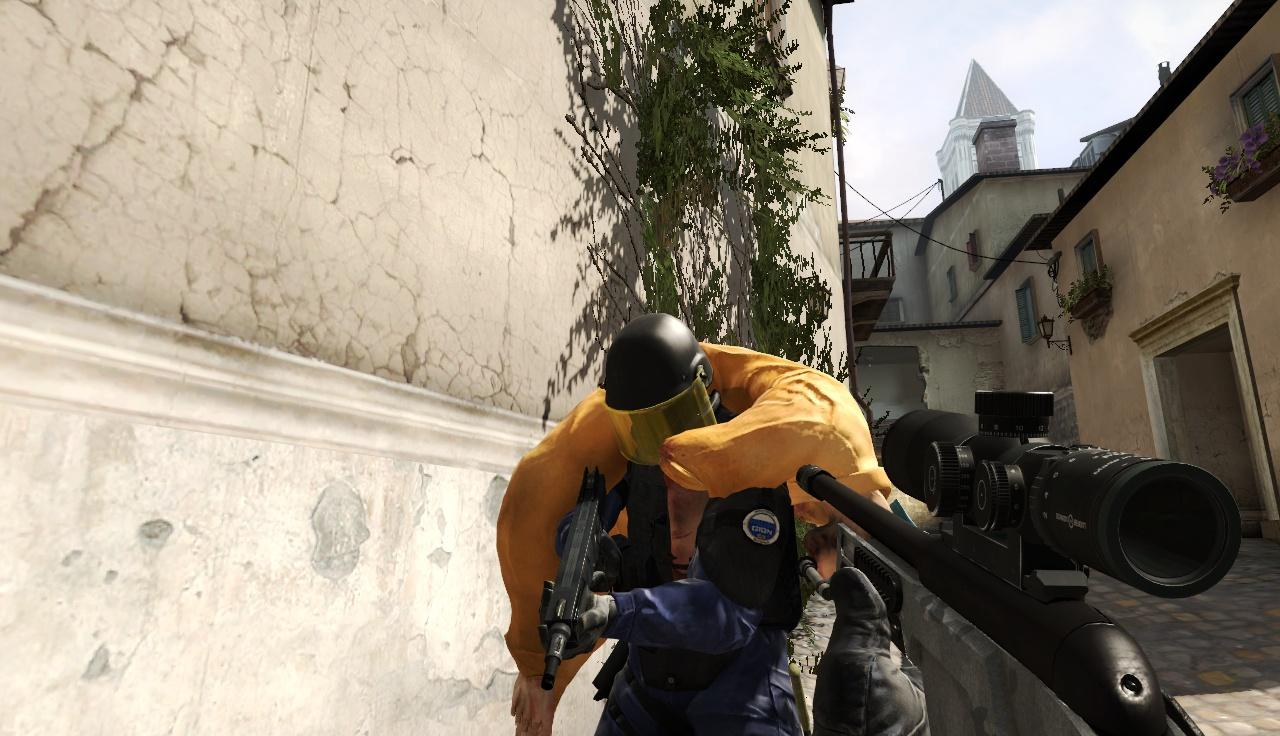ct: (581, 311, 793, 736)
cthead: (601, 318, 715, 445)
sniper: (795, 393, 1280, 736)
